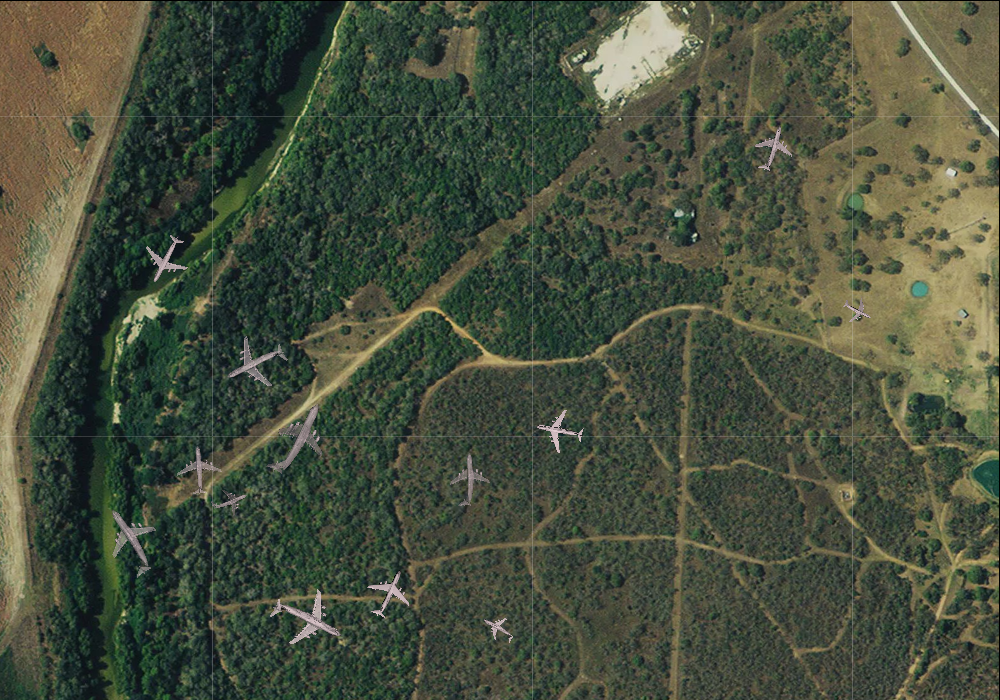plane: (247, 387, 344, 489), (258, 573, 355, 668), (83, 494, 175, 589), (214, 322, 297, 405), (132, 225, 198, 292), (356, 560, 421, 626), (745, 119, 800, 176), (532, 404, 587, 457), (442, 452, 492, 507), (173, 444, 223, 496), (205, 478, 252, 523), (475, 608, 520, 651), (837, 290, 877, 329)
